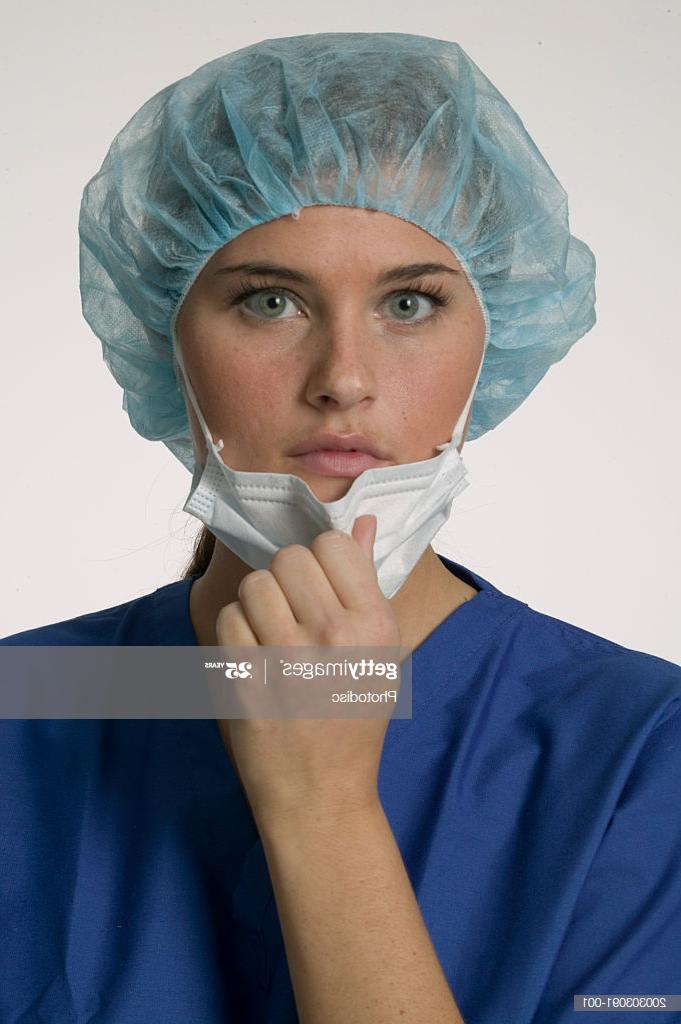mask_weared_incorrect: (191, 261, 458, 555)
